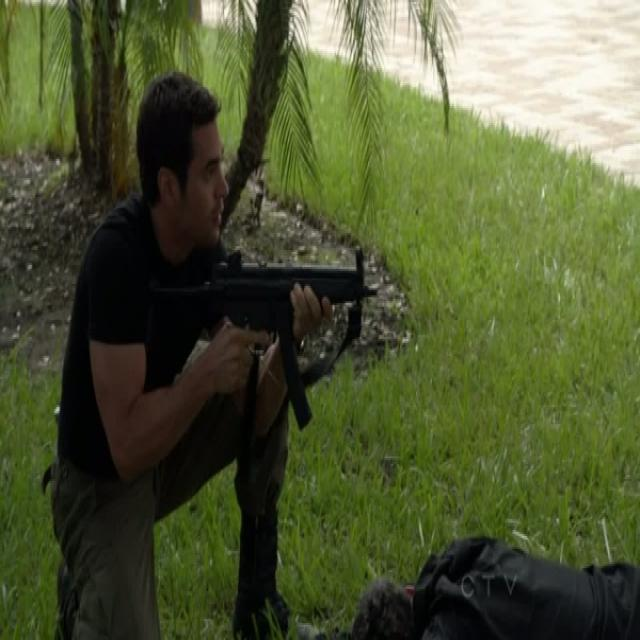rifle: (155, 245, 382, 438)
